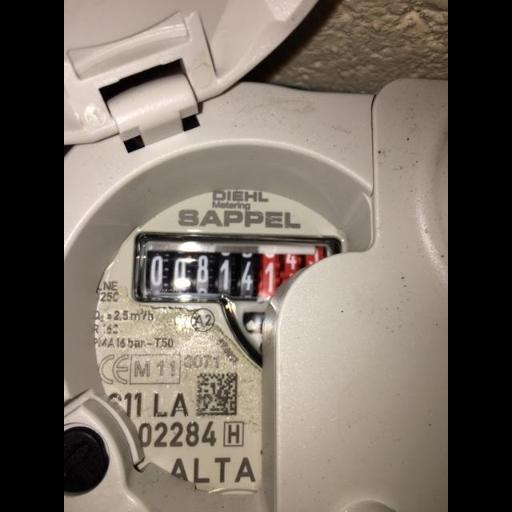0: (145, 249, 171, 294), (170, 251, 194, 294)
1: (257, 253, 283, 299), (213, 251, 238, 297)
4: (236, 252, 261, 298), (281, 252, 303, 285)
8: (193, 252, 215, 294)
border_water_meter_number: (140, 237, 332, 303)
